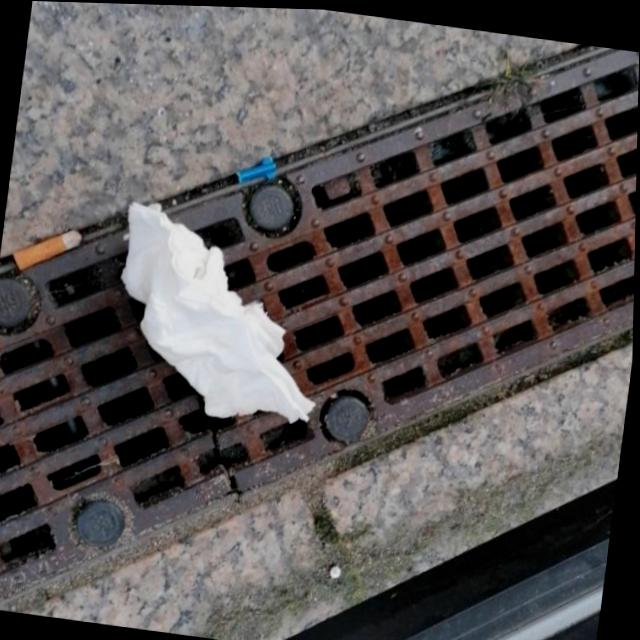Paper: (103, 196, 343, 430)
